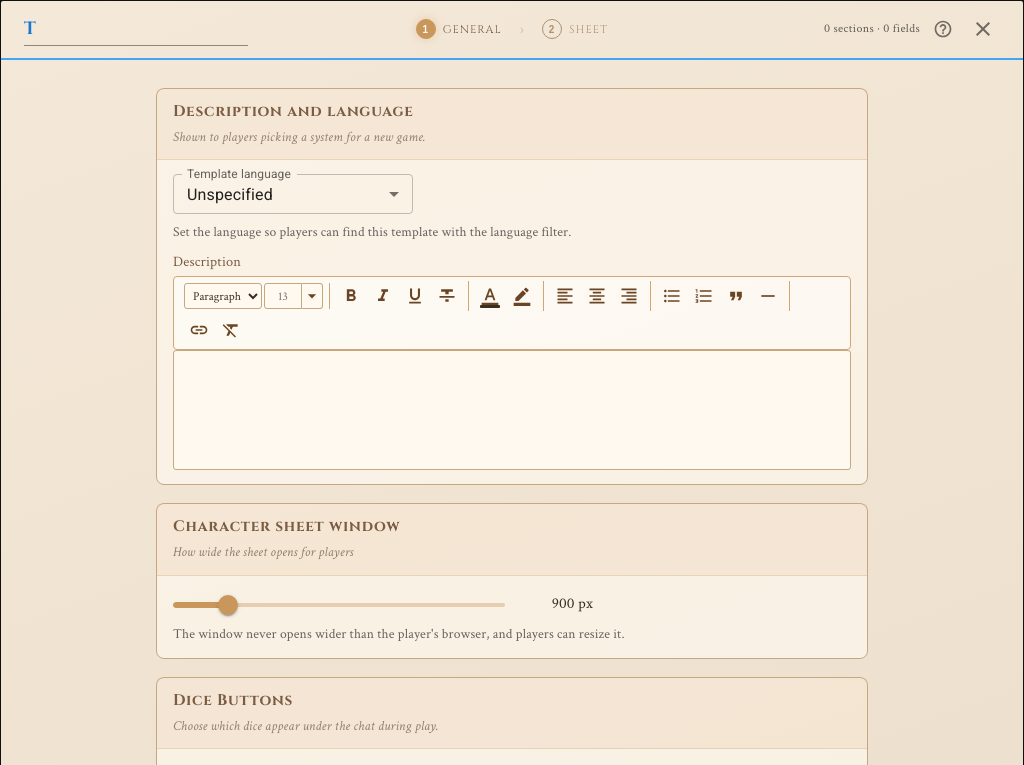
Test case: a conflict shows who saved, stops autosave, and overwrite sends their version
The image size is (1024, 765).
Replace the text in the field with placeholder "System name" in the row of "sections" with "A" at [136, 29], box [24,12,248,46]
Wait 1300 ms
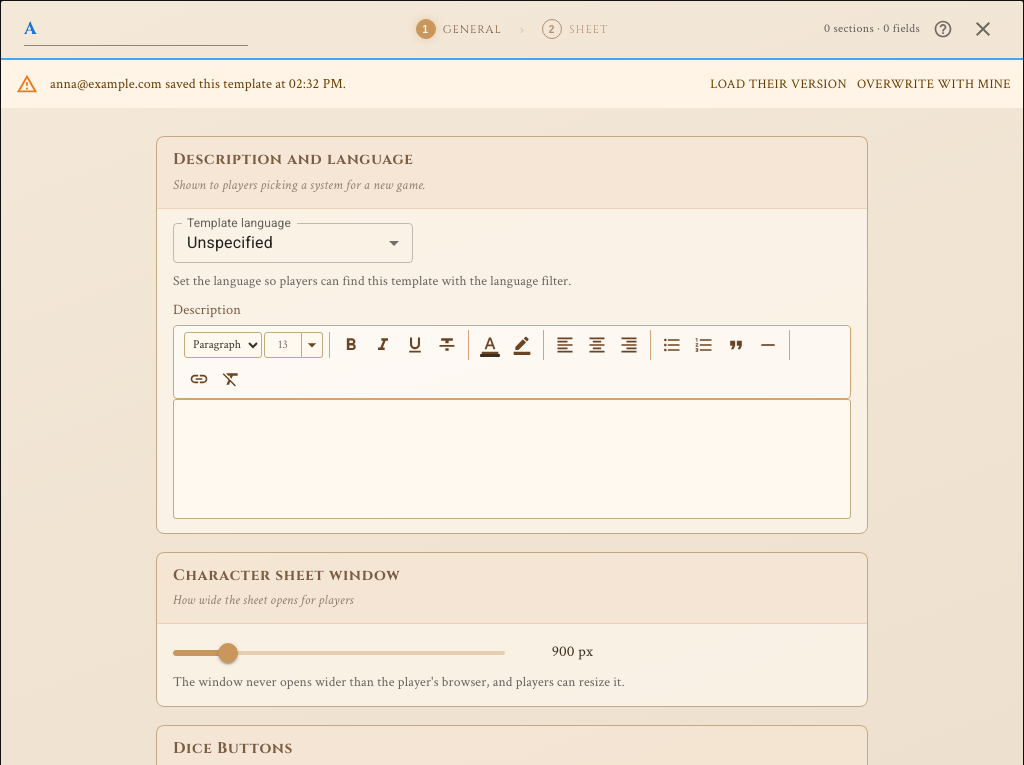
Result: the text "anna@example.com saved this template at 02:32 PM." is shown at [50,75,346,93]
Replace the text in the field with placeholder "System name" in the row of "sections" with "AB" at [136, 29], box [24,12,248,46]
Wait 1300 ms
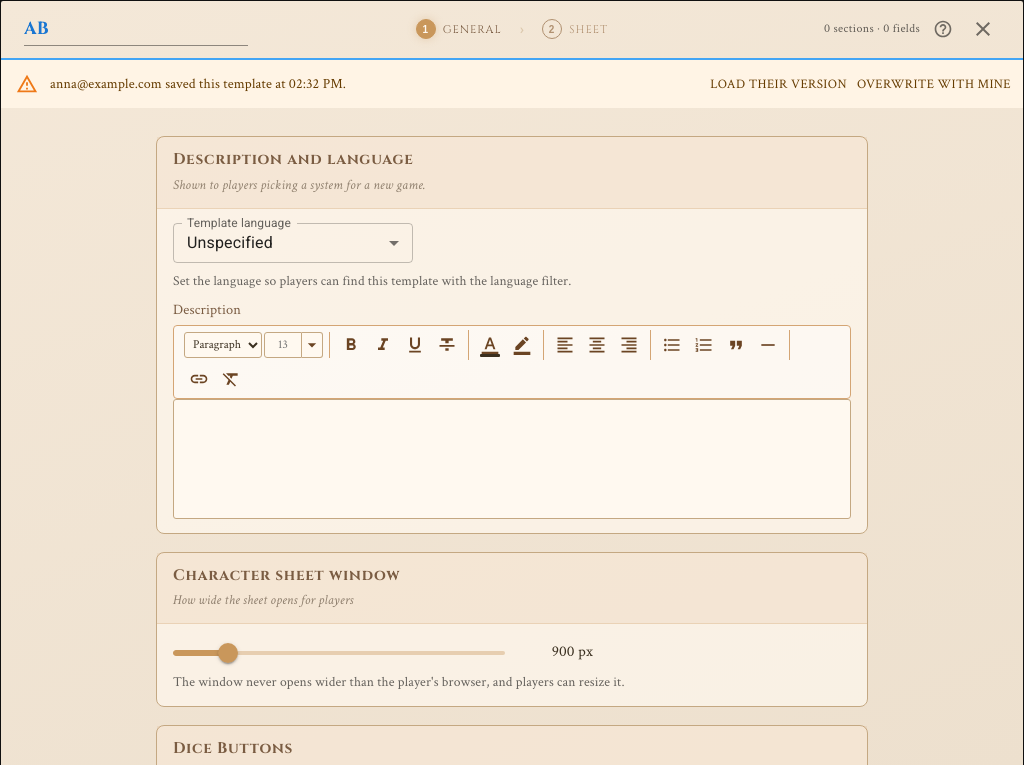
Click the button "Overwrite with mine".
click(934, 86)  # box [852,70,1016,101]
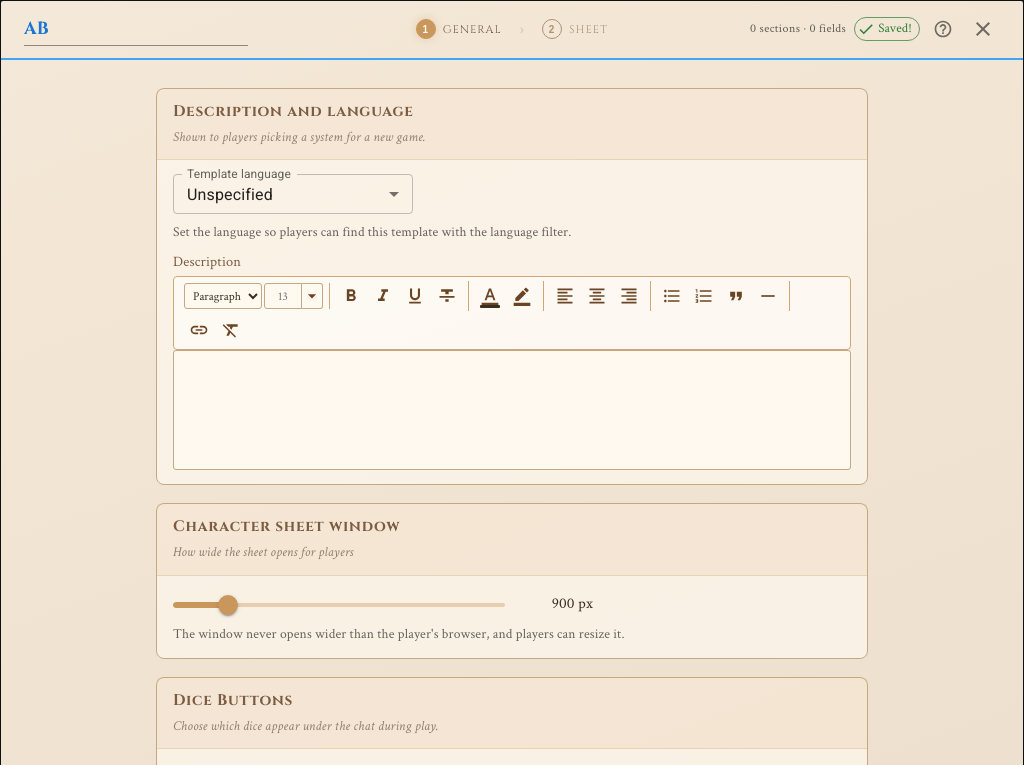
Result: the text "saved this template" is gone
